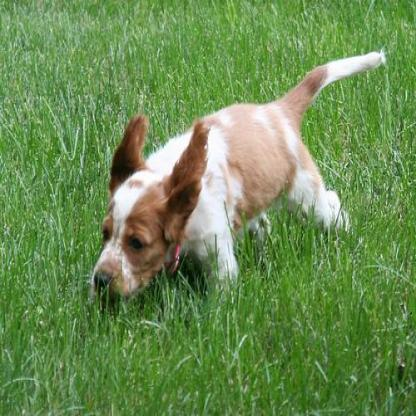Welsh_springer_spaniel: (82, 44, 390, 314)
